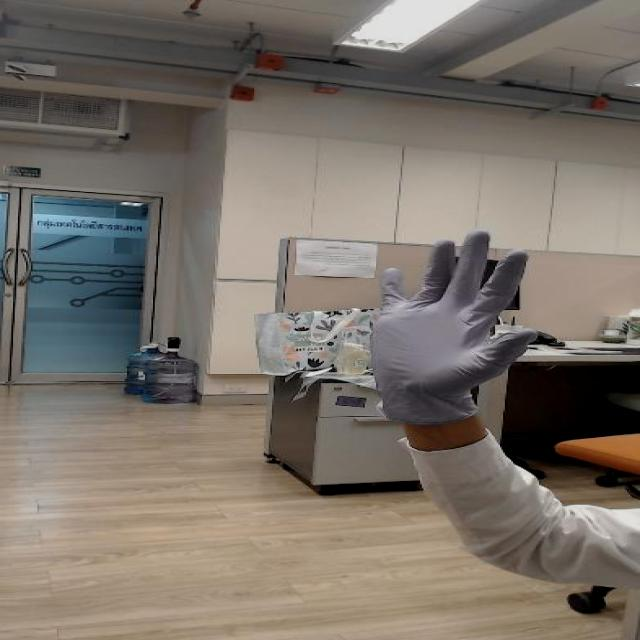glove: (294, 226, 584, 405)
